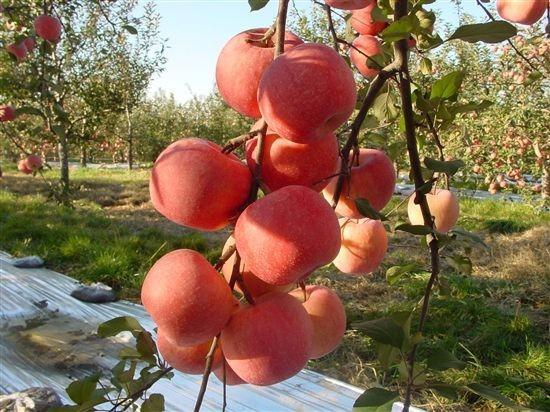apple: (233, 185, 340, 283), (257, 42, 357, 144), (147, 135, 252, 230), (141, 248, 234, 349), (221, 292, 313, 386), (215, 23, 302, 118), (244, 118, 337, 196), (322, 146, 395, 212), (287, 285, 346, 358), (333, 210, 388, 276), (408, 186, 460, 234)
